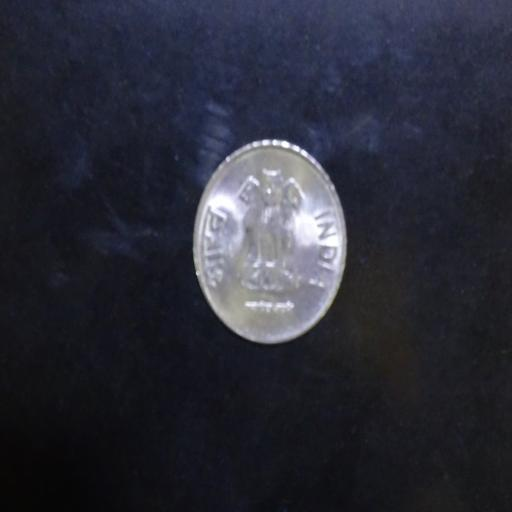rupee2: (191, 140, 347, 344)
